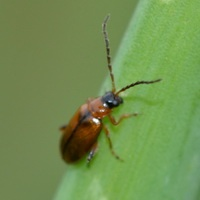insect: (60, 15, 160, 162)
